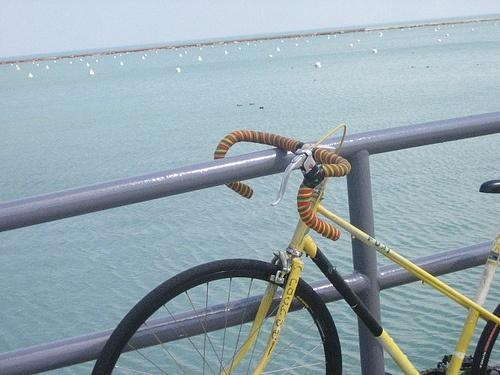bicycle: (91, 123, 500, 375)
